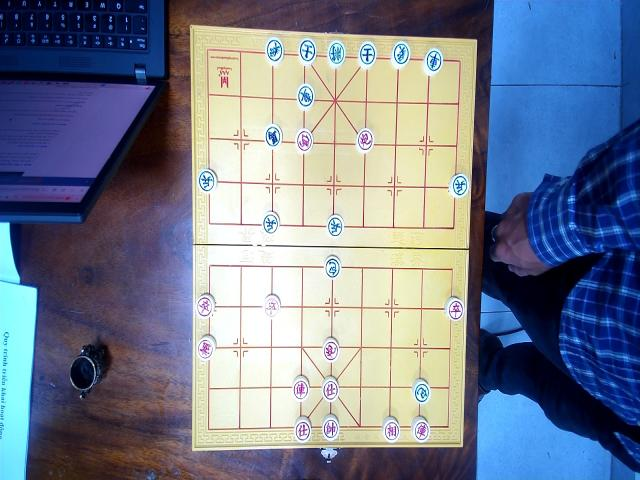piece: (448, 171, 469, 199), (390, 40, 410, 69), (422, 48, 442, 76), (196, 334, 216, 361), (410, 415, 430, 442), (326, 40, 346, 67), (294, 127, 314, 154), (354, 127, 374, 153), (382, 416, 401, 443), (411, 378, 430, 405), (298, 36, 316, 64), (266, 36, 284, 64), (444, 296, 464, 321), (294, 416, 312, 443), (292, 374, 310, 401), (322, 337, 340, 364), (358, 41, 376, 68), (296, 82, 314, 109), (196, 292, 214, 318), (263, 123, 281, 149), (198, 167, 216, 192), (322, 415, 339, 441), (321, 376, 338, 402), (326, 214, 344, 238), (262, 212, 280, 236), (324, 254, 341, 278), (264, 293, 280, 318)
